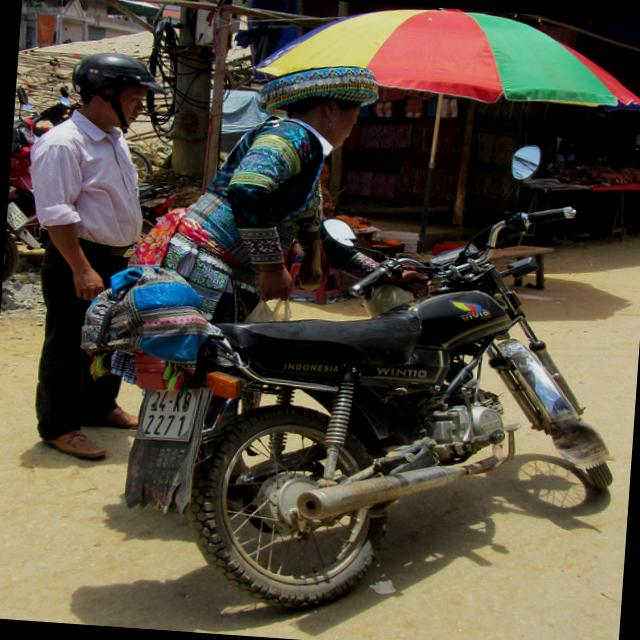Vehicle: (110, 116, 640, 628)
